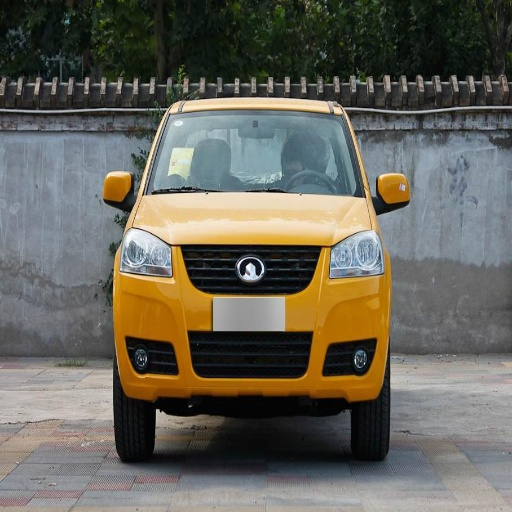front_bumper: (116, 244, 388, 401)
front_right_light: (120, 228, 173, 278)
hood: (133, 192, 366, 245)
left_mirror: (375, 173, 409, 213)
